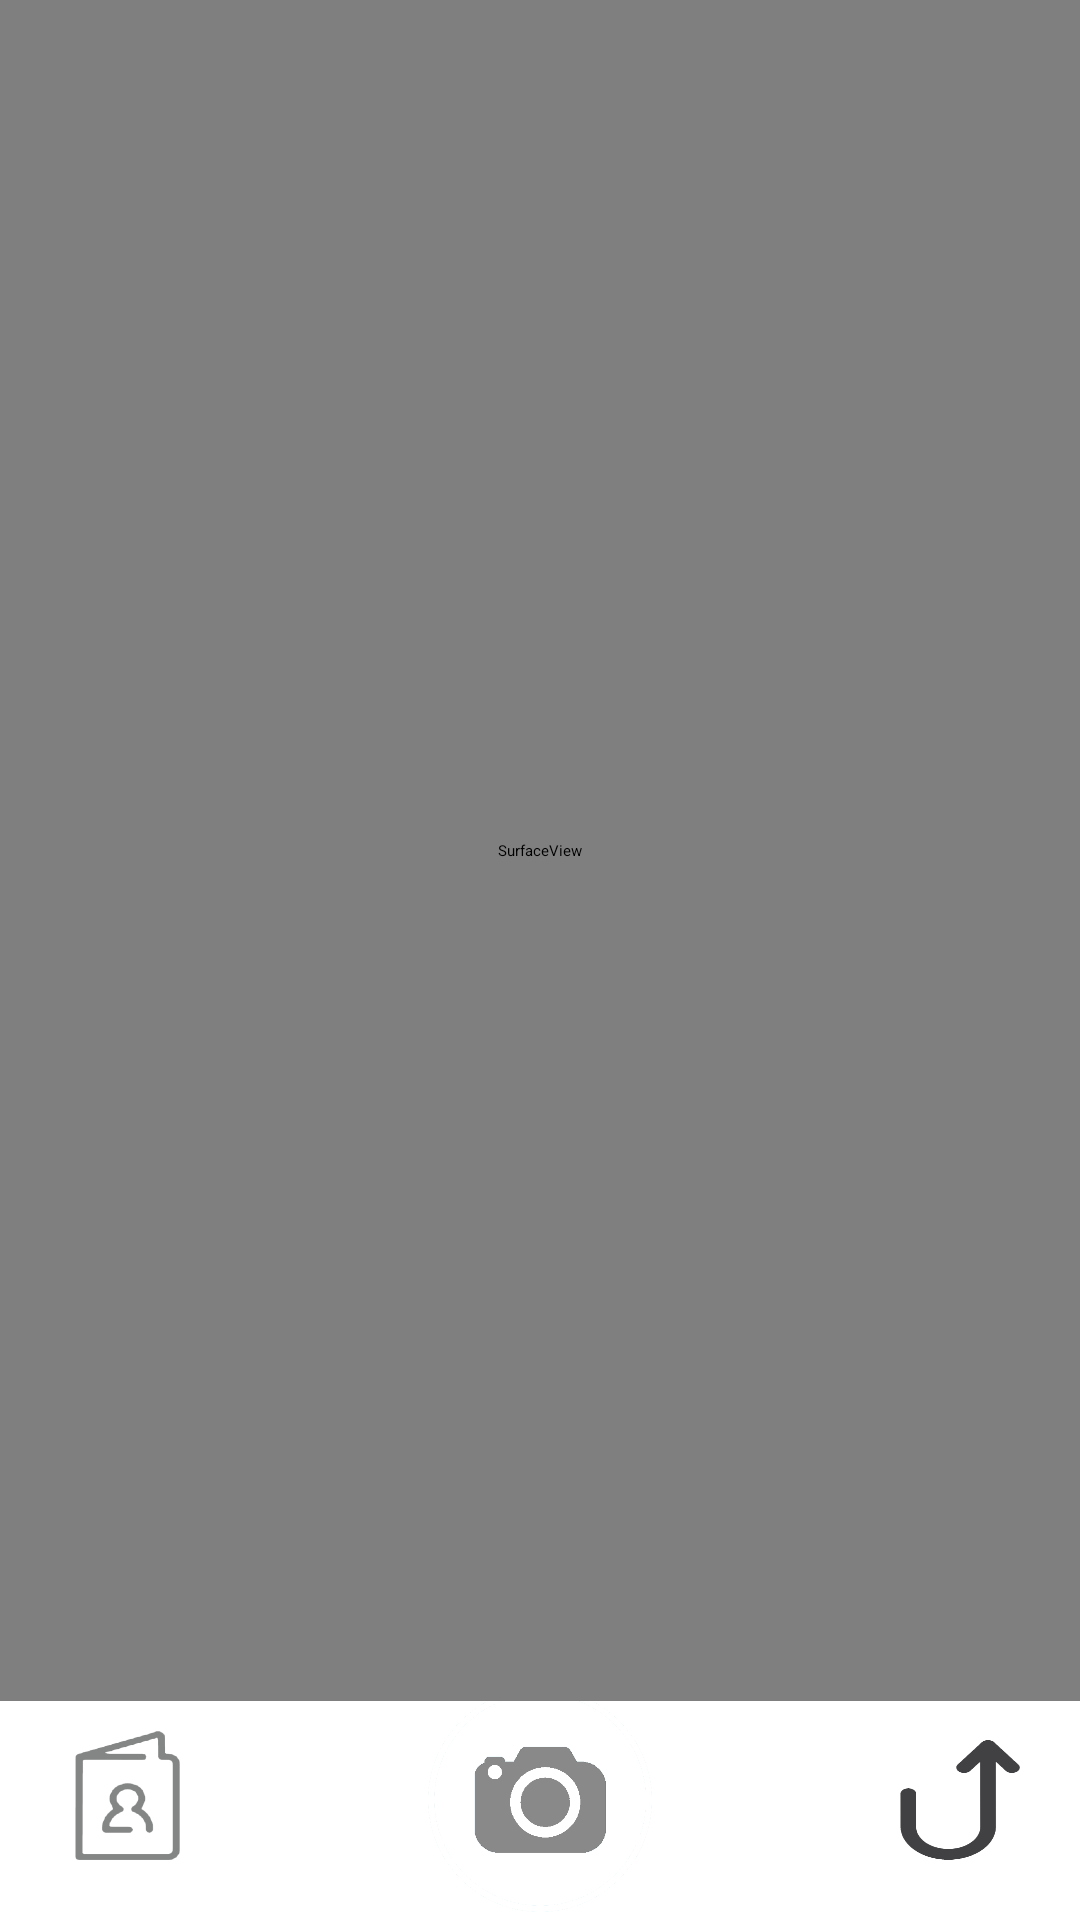

Where to tap for icons on this 1080x1920 app screen, as [x,y]:
album: [127,1795]
shoot: [540,1800]
